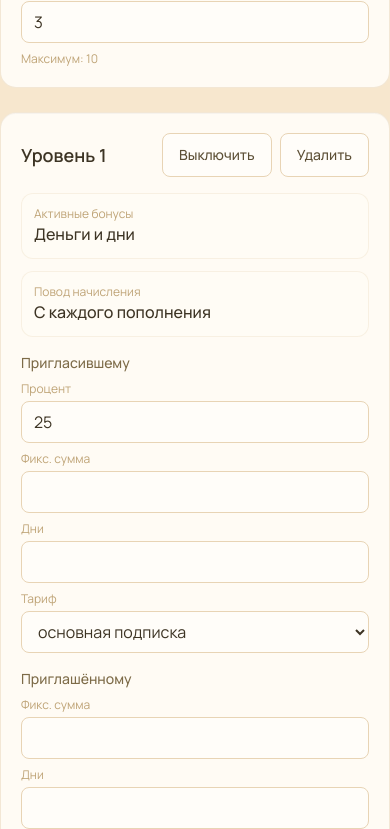
отказы больше не молчат › процент вне диапазона не сохраняется и показывает ошибку
This screenshot has width=390, height=829.
(page scrolled)
Replace the text in the field labelled "Процент" with "150". click: (195, 422)
box: [21,401,369,443]
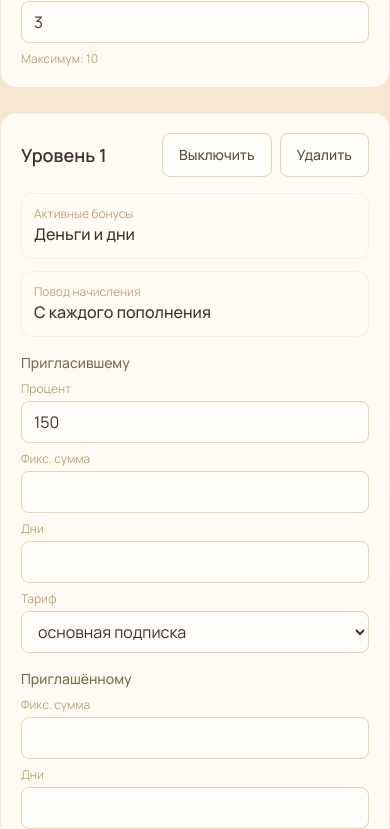
Leave the field labelled "Процент", box [21,401,369,443]
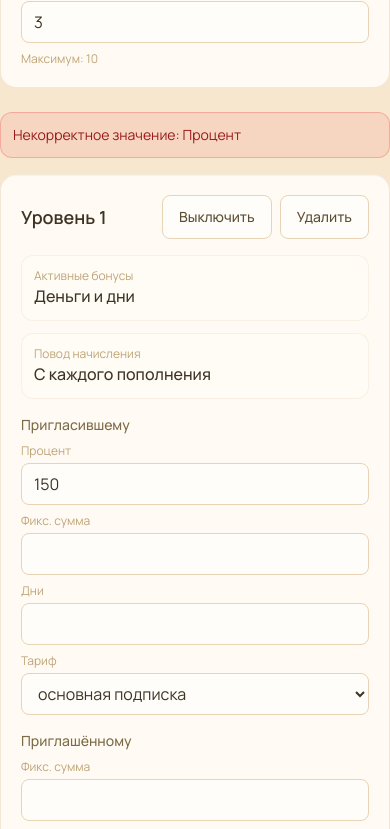
Check: the text "Некорректное значение: Процент" is shown, box [0,112,389,158]
